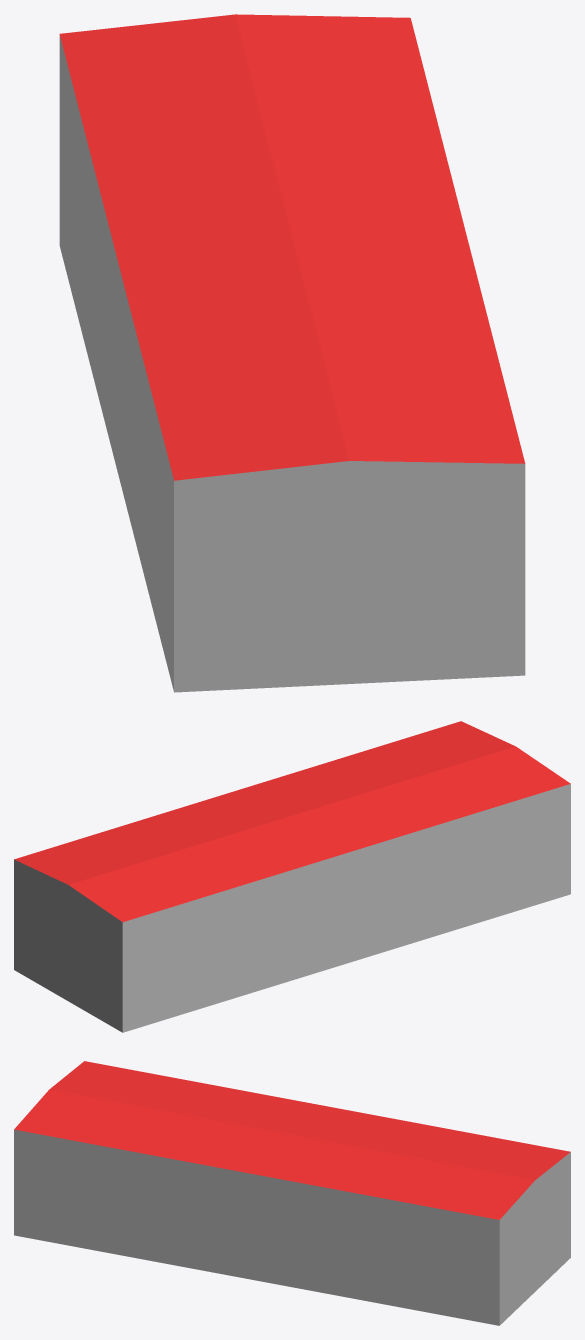
File: DEBY_LOD2_4959459.dae
3 views of the same model, one above another, from view 1: azimuth 30°, elevation 25°; view 2: azimuth 150°, elevation 25°; view 3: azimuth 270°, elevation 25° (orthographic). The views are drawn at different scales.
Size of the model in its own units: 23.72 by 35.11 by 7.76.
